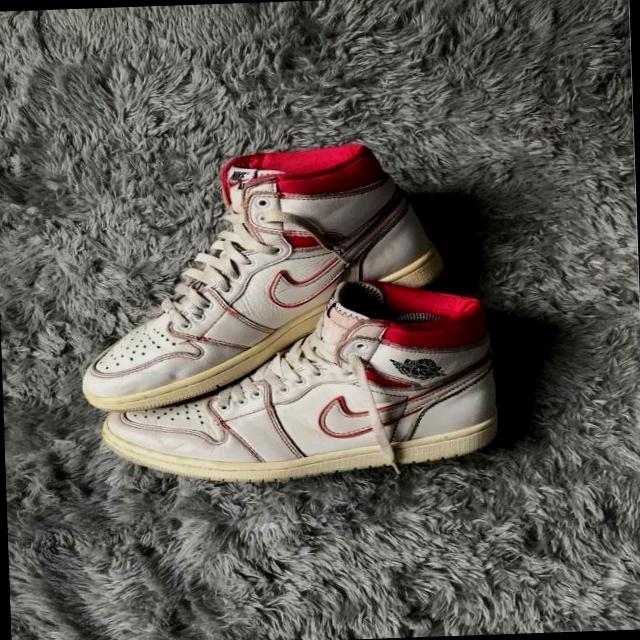nike_original_jordan: (72, 142, 466, 417), (91, 274, 504, 492)
